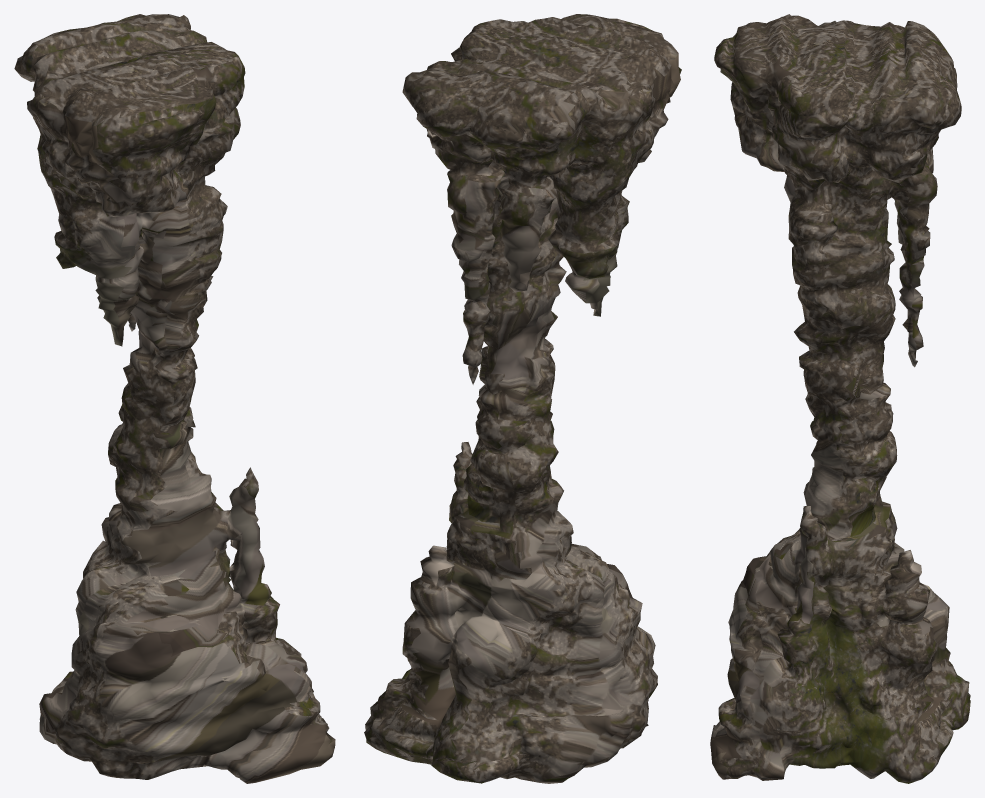
Rendered from SM_Stalacite_F.fbx.
3 renders of one model, left to right at view 1: azimuth 30°, elevation 25°; view 2: azimuth 150°, elevation 25°; view 3: azimuth 270°, elevation 25°, orthographic. The views are drawn at different scales.
Visible parts, largest first — view 1: SM_Stalacite_F_LOD0; view 2: SM_Stalacite_F_LOD0; view 3: SM_Stalacite_F_LOD0.
Boxes of the visible parts, left/top/right/bottom form: SM_Stalacite_F_LOD0: left=14, top=14, right=335, bottom=783; SM_Stalacite_F_LOD0: left=364, top=14, right=681, bottom=783; SM_Stalacite_F_LOD0: left=710, top=14, right=970, bottom=783.
Bounding box in the file's own units: 967 × 890 × 2561.
